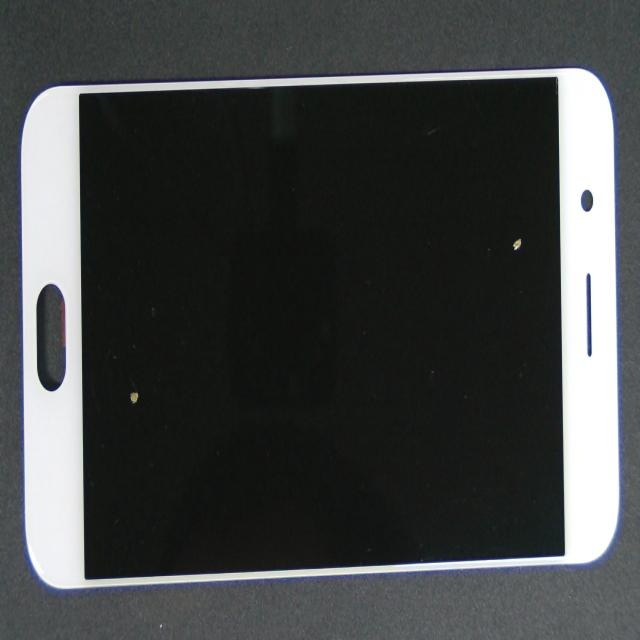stain: (276, 80, 640, 335), (73, 153, 191, 566)
